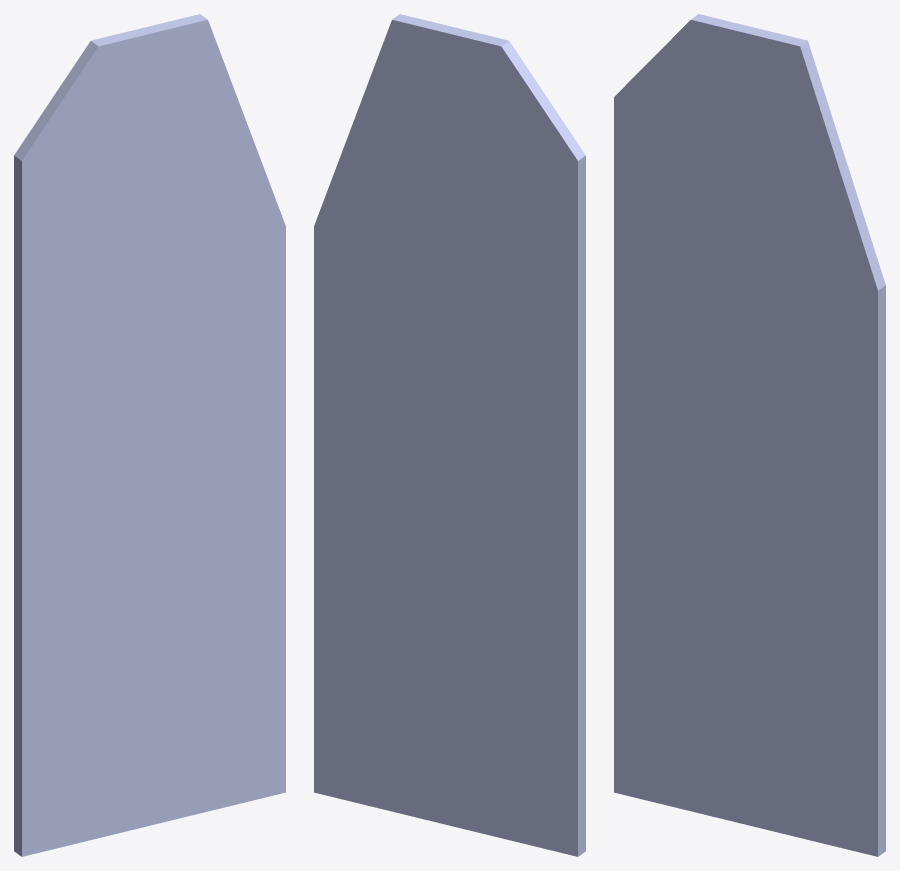
The model's file is glass.fbx.
The picture shows the model from 3 angles, left to right: view 1: azimuth 30°, elevation 25°; view 2: azimuth 150°, elevation 25°; view 3: azimuth 330°, elevation 25°; orthographic projection.
Parts seen in each view (by area): view 1: glass; view 2: glass; view 3: glass.
Part boxes in pixels (left/top/right/bottom): glass: left=14, top=14, right=285, bottom=856; glass: left=314, top=14, right=585, bottom=856; glass: left=614, top=14, right=885, bottom=856.
Size of the model in its own units: 452 by 1296 by 23.2.
